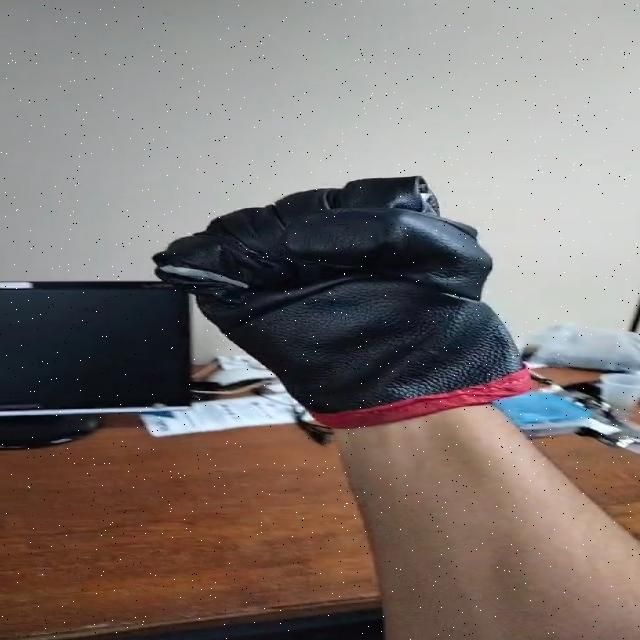Gloves: (153, 176, 537, 425)
